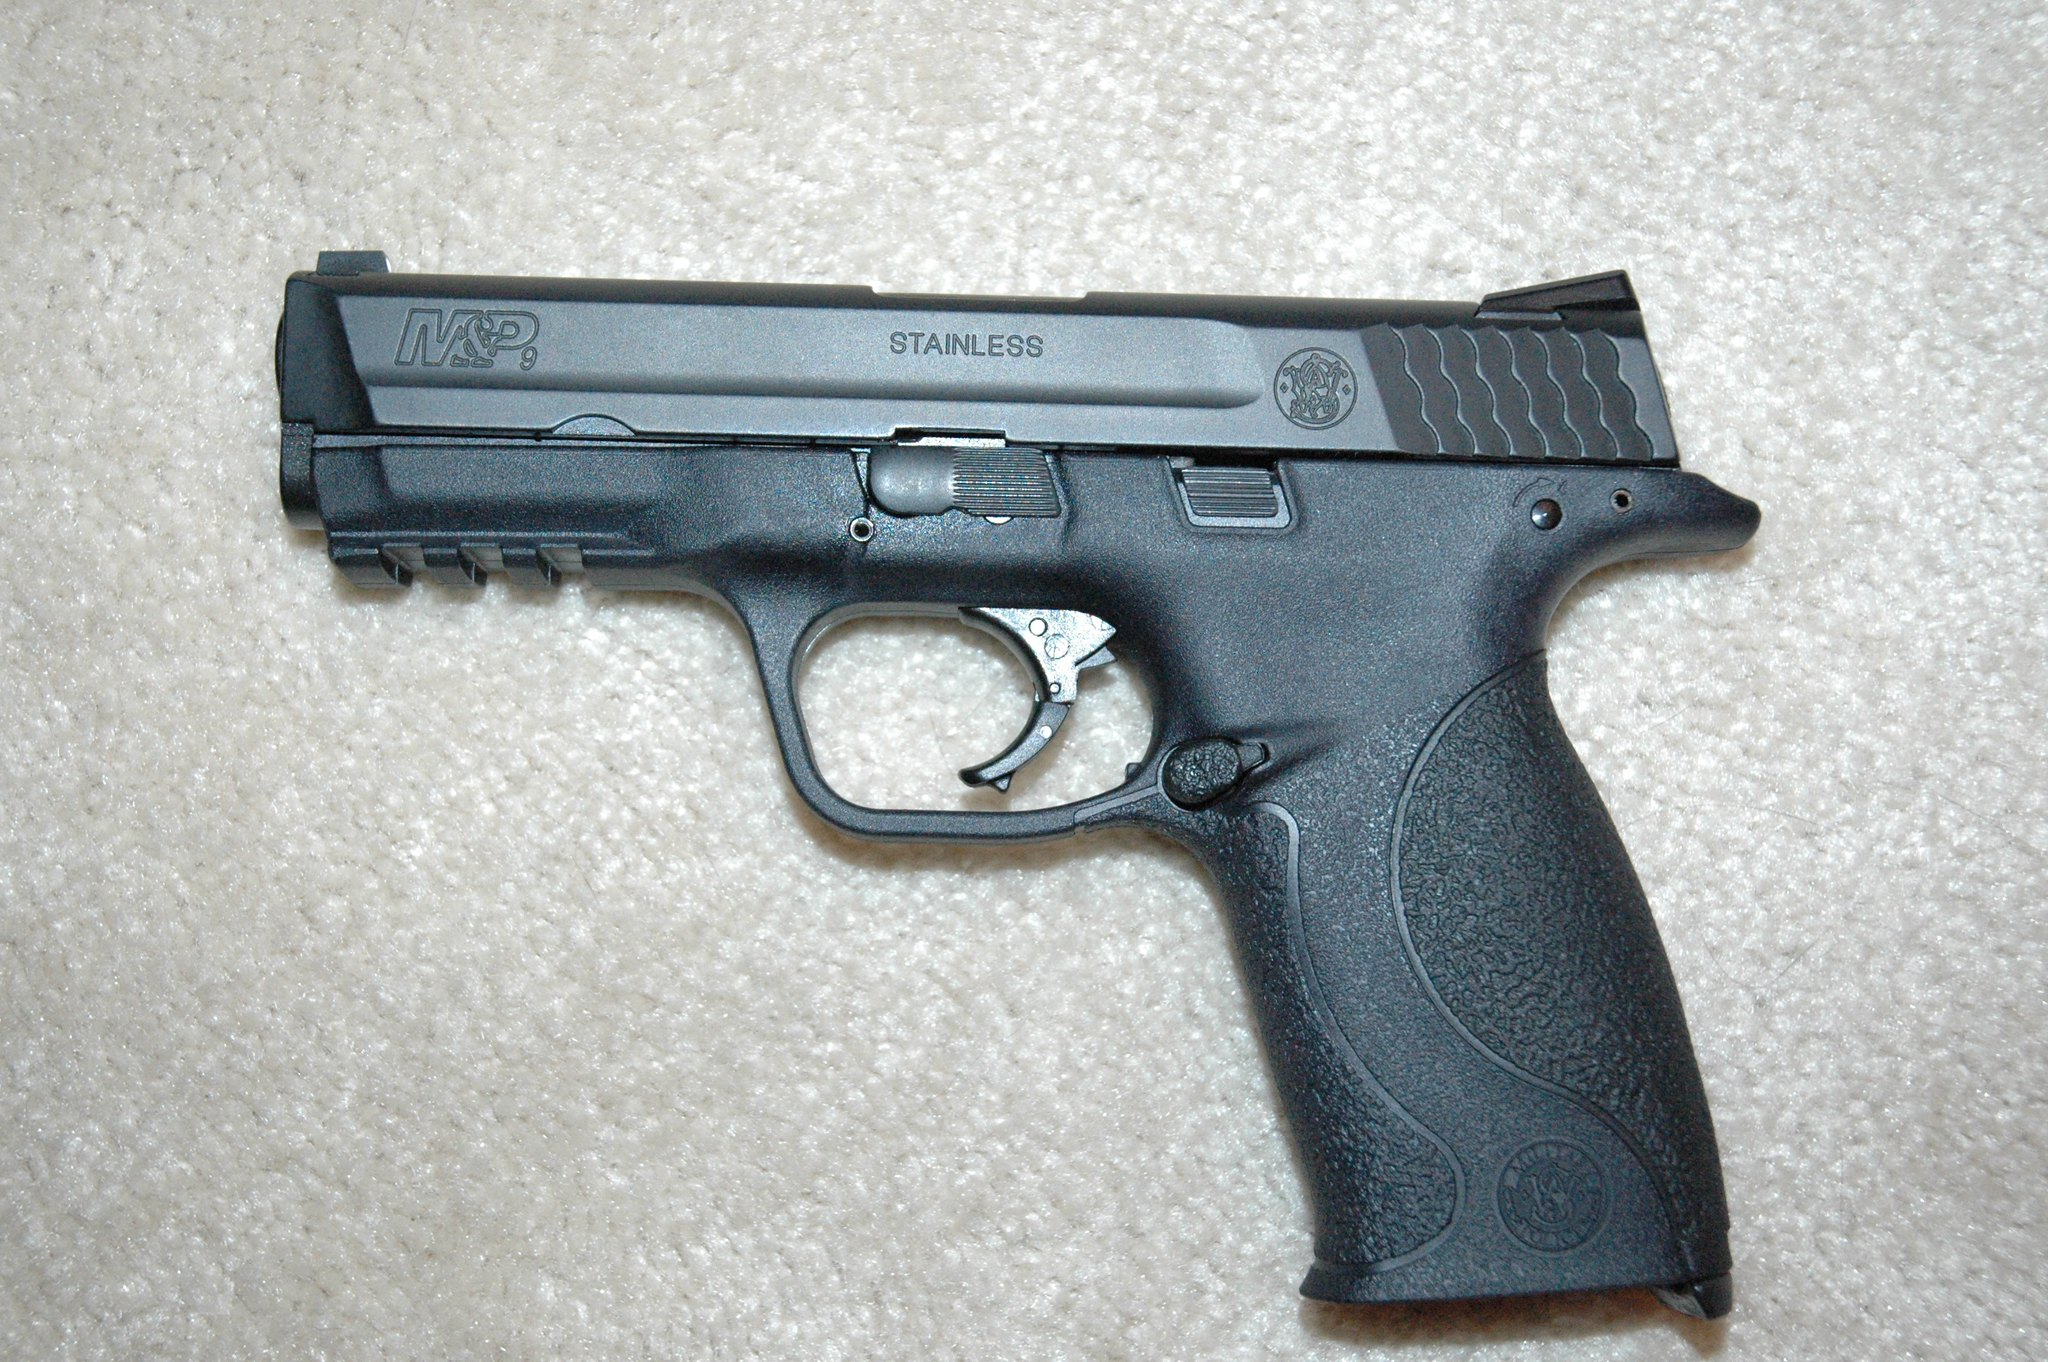gun: (242, 220, 1788, 1335)
